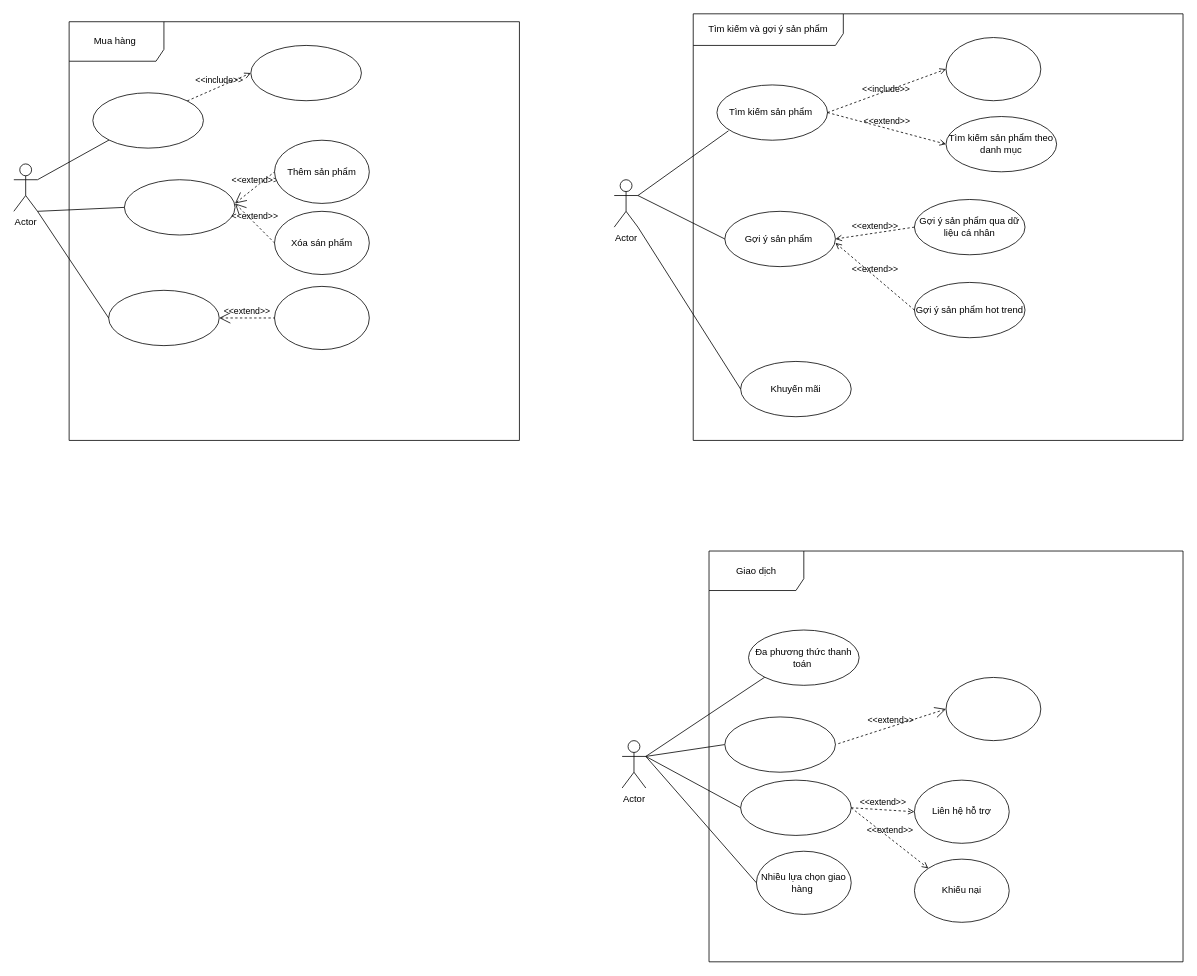
This 1197x976 diagram has some shape labels left out. The shapes that lost their labels are listed below. From the top down, each one's centre as x and y in pixels, then its label:
At point 305,73: "Đánh giá và reivew".
At point 993,69: "Lọc sản phẩm theo từ khóa".
At point 147,120: "Thông tin chi tiết sản phẩm".
At point 179,207: "Giỏ hàng".
At point 163,318: "Theo dõi quá trình giao hàng".
At point 321,318: "Hủy đơn".
At point 993,709: "Hoàn tiền".
At point 779,744: "Trả hàng".
At point 795,807: "Chính sách bảo vệ người mua".
